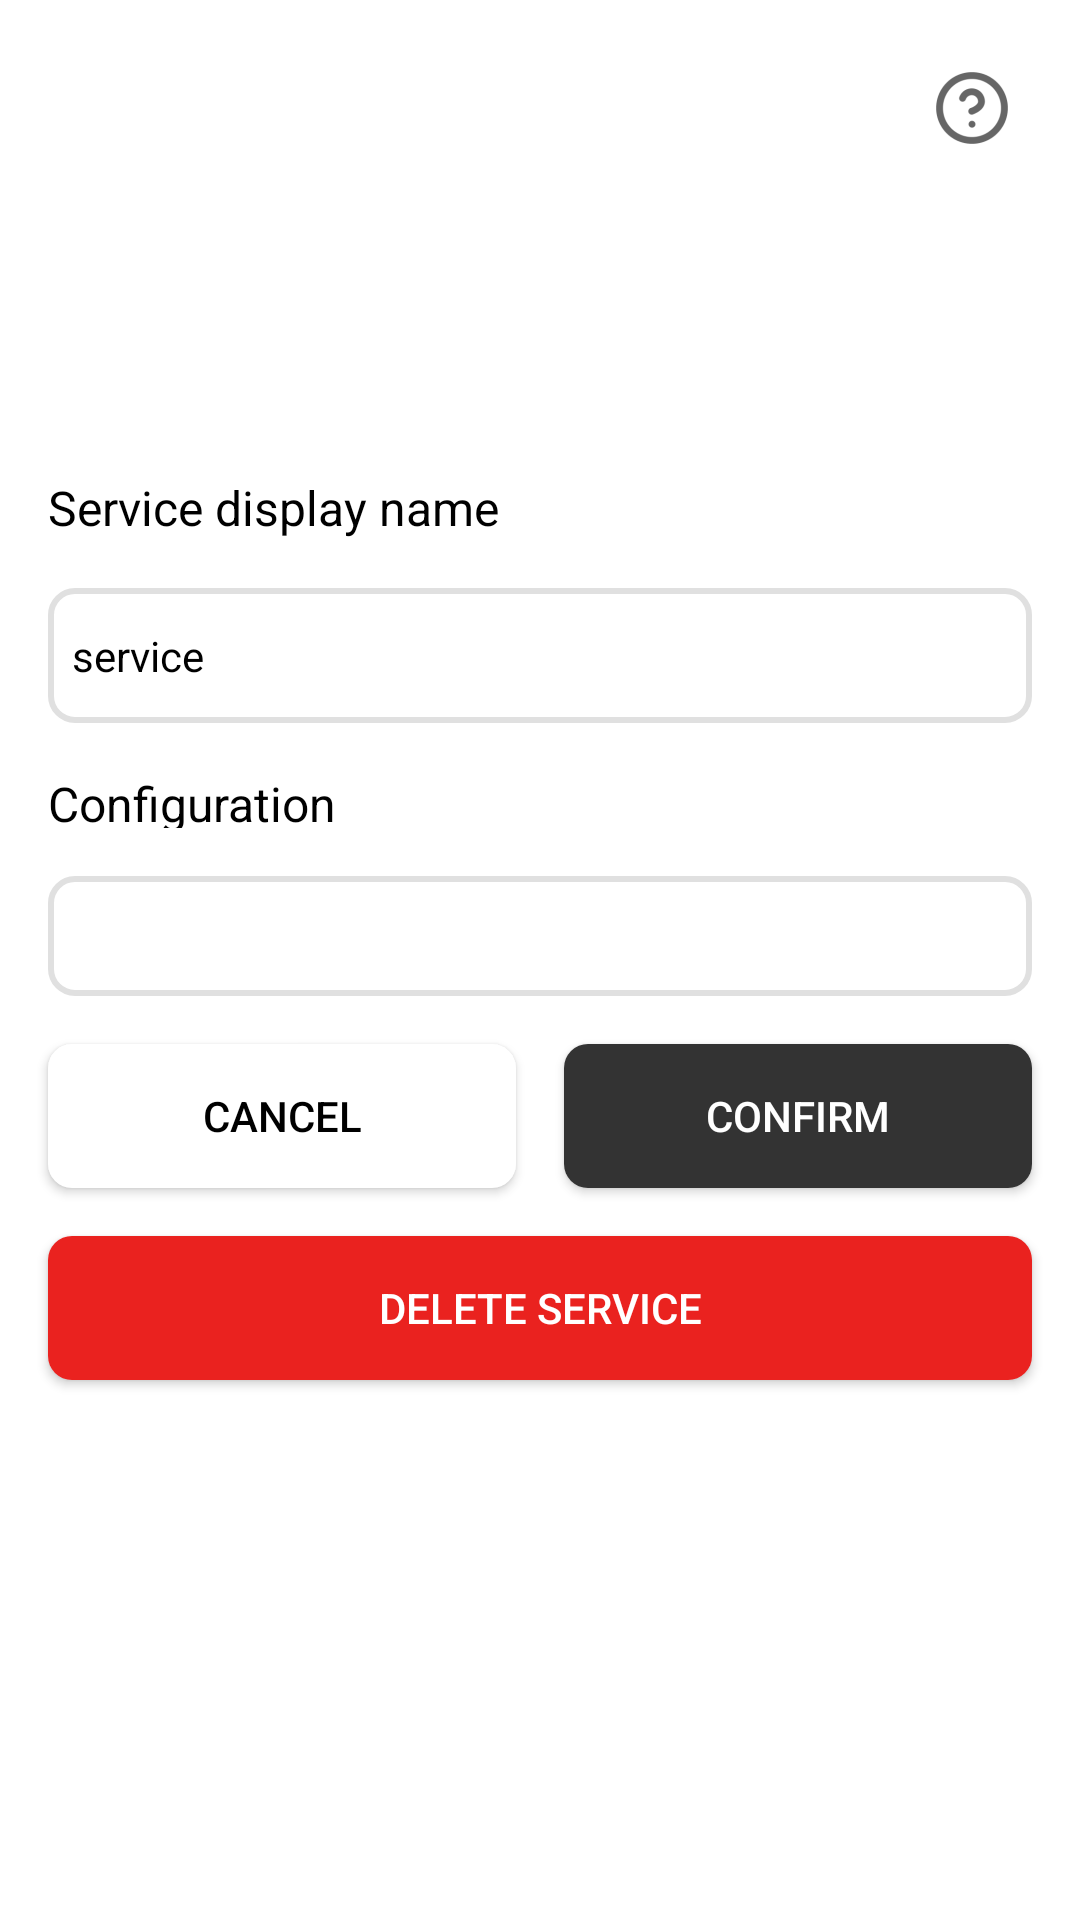

Where to tap for icons on this 1080x1920 app screen, as (x,y):
help: (972,108)
